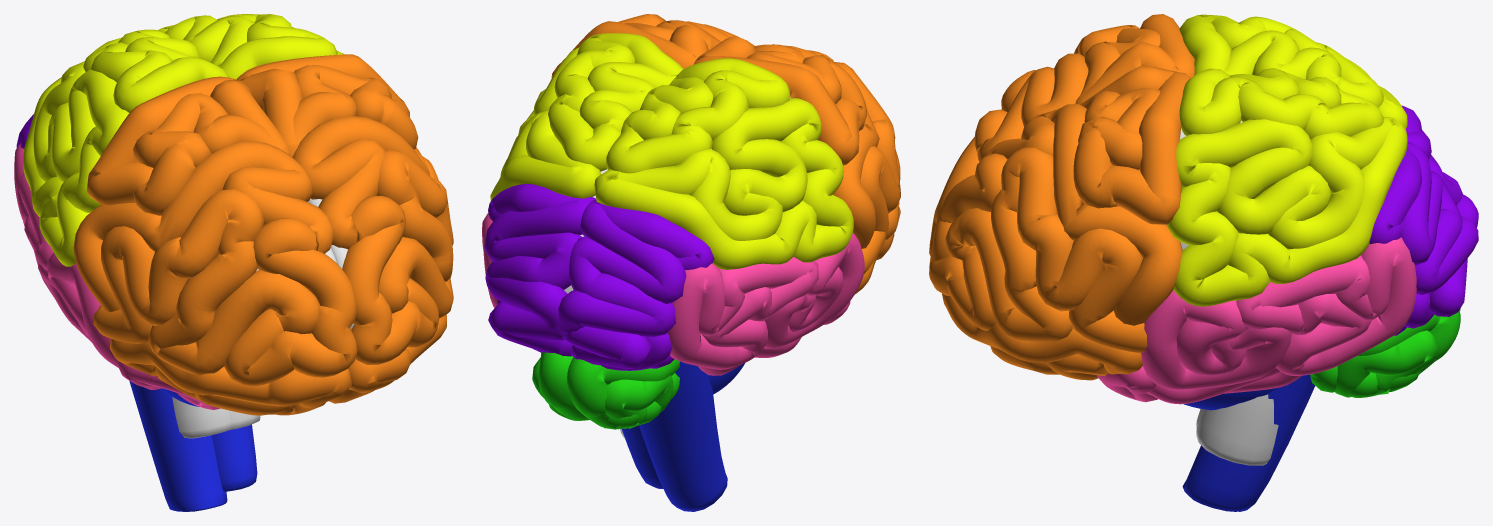
Rendered from Brain3D.fbx.
3 renders of one model, left to right at view 1: azimuth 30°, elevation 25°; view 2: azimuth 150°, elevation 25°; view 3: azimuth 270°, elevation 25°, orthographic. The views are drawn at different scales.
Visible parts, largest first — view 1: L Frontal, R Frontal, L Parietal, L Brain Stem, R Parietal, L Temporal, Cube, R Brain Stem; view 2: L Parietal, L Occipital, L Temporal, R Parietal, L Frontal, R Occipital, L Brain Stem, L Cerebellum, R Frontal, R Cerebellum, R Brain Stem; view 3: R Frontal, R Parietal, R Temporal, L Frontal, R Occipital, L Parietal, R Brain Stem, R Cerebellum, Cube, L Occipital.
Part boxes in pixels (x1=…): L Frontal: x1=73, y1=76, x2=357, y2=415; R Frontal: x1=236, y1=54, x2=453, y2=403; L Parietal: x1=23, y1=29, x2=227, y2=266; L Brain Stem: x1=129, y1=381, x2=227, y2=511; R Parietal: x1=158, y1=14, x2=344, y2=79; L Temporal: x1=14, y1=143, x2=220, y2=409; Cube: x1=172, y1=198, x2=353, y2=438; R Brain Stem: x1=212, y1=424, x2=257, y2=491; L Parietal: x1=594, y1=58, x2=853, y2=269; L Occipital: x1=558, y1=199, x2=714, y2=370; L Temporal: x1=667, y1=233, x2=864, y2=375; R Parietal: x1=490, y1=33, x2=683, y2=201; L Frontal: x1=693, y1=36, x2=900, y2=293; R Occipital: x1=484, y1=184, x2=595, y2=356; L Brain Stem: x1=639, y1=361, x2=744, y2=511; L Cerebellum: x1=567, y1=357, x2=679, y2=429; R Frontal: x1=551, y1=14, x2=754, y2=77; R Cerebellum: x1=532, y1=352, x2=589, y2=420; R Brain Stem: x1=622, y1=425, x2=663, y2=488; R Frontal: x1=929, y1=66, x2=1190, y2=380; R Parietal: x1=1167, y1=68, x2=1407, y2=306; R Temporal: x1=1096, y1=237, x2=1416, y2=404; L Frontal: x1=929, y1=14, x2=1194, y2=255; R Occipital: x1=1369, y1=141, x2=1478, y2=335; L Parietal: x1=1179, y1=14, x2=1407, y2=128; R Brain Stem: x1=1183, y1=374, x2=1312, y2=511; R Cerebellum: x1=1310, y1=310, x2=1460, y2=397; Cube: x1=1180, y1=120, x2=1278, y2=465; L Occipital: x1=1401, y1=105, x2=1478, y2=227.
Bounding box in the file's own units: 401 × 514 × 549.
